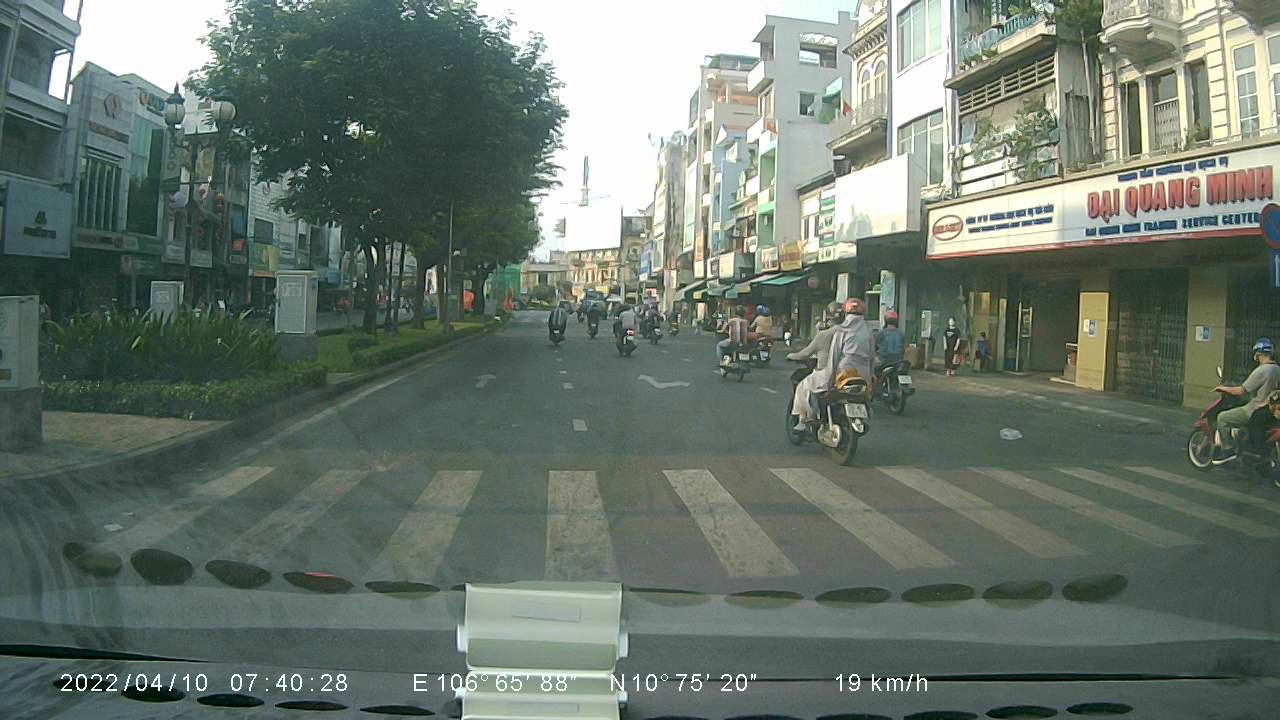Cam do xe: (1256, 201, 1280, 250)
